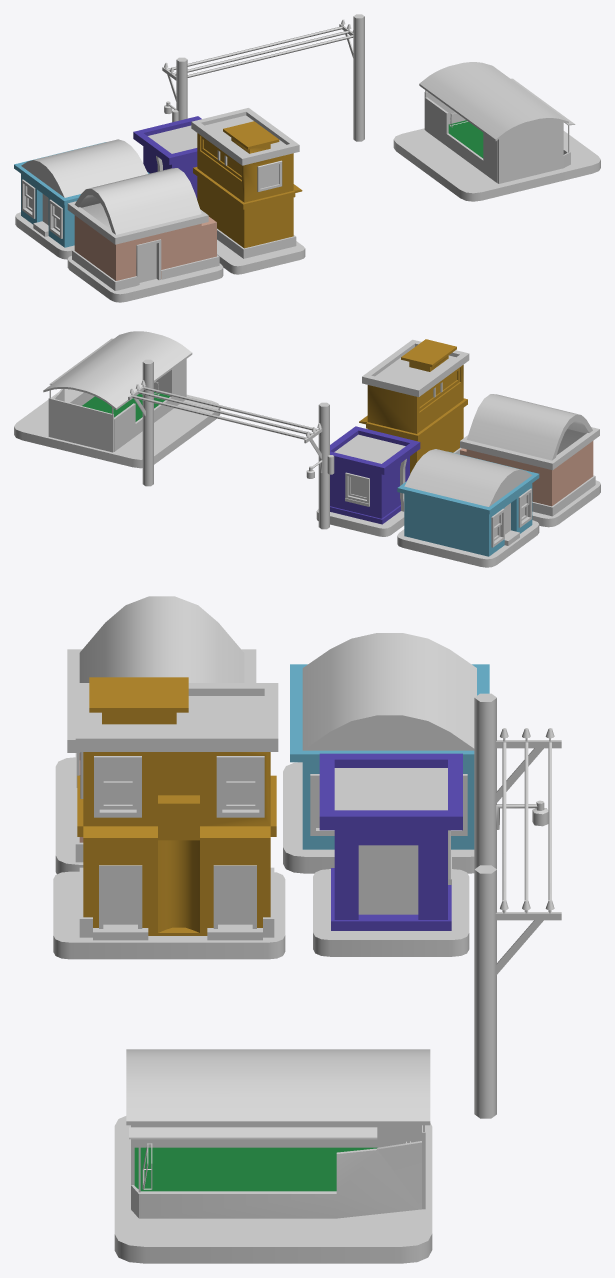
The model's file is mangos_m.fbx.
3 renders of one model, top to bottom at view 1: azimuth 30°, elevation 25°; view 2: azimuth 150°, elevation 25°; view 3: azimuth 270°, elevation 25°, orthographic. The views are drawn at different scales.
Visible parts, largest first — view 1: mangos_m; view 2: mangos_m; view 3: mangos_m.
Part boxes in pixels (x1,y1,x2,y2): mangos_m: (14,14,600,302); mangos_m: (14,331,600,567); mangos_m: (53,596,561,1263).
Size of the model in its own units: 3138 by 731 by 1375.
